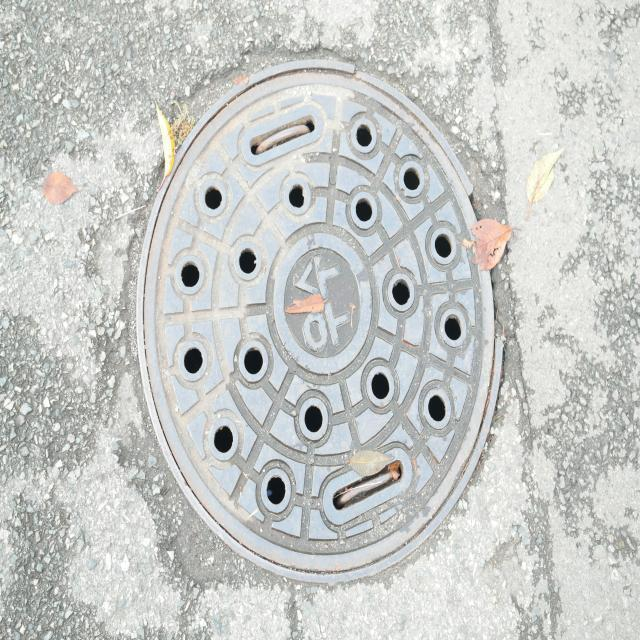manhole: (130, 61, 500, 591)
